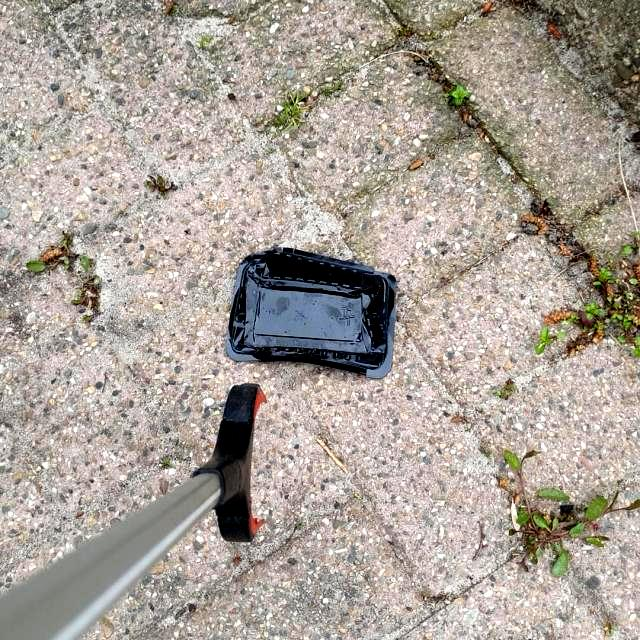Paper: (222, 246, 398, 380)
